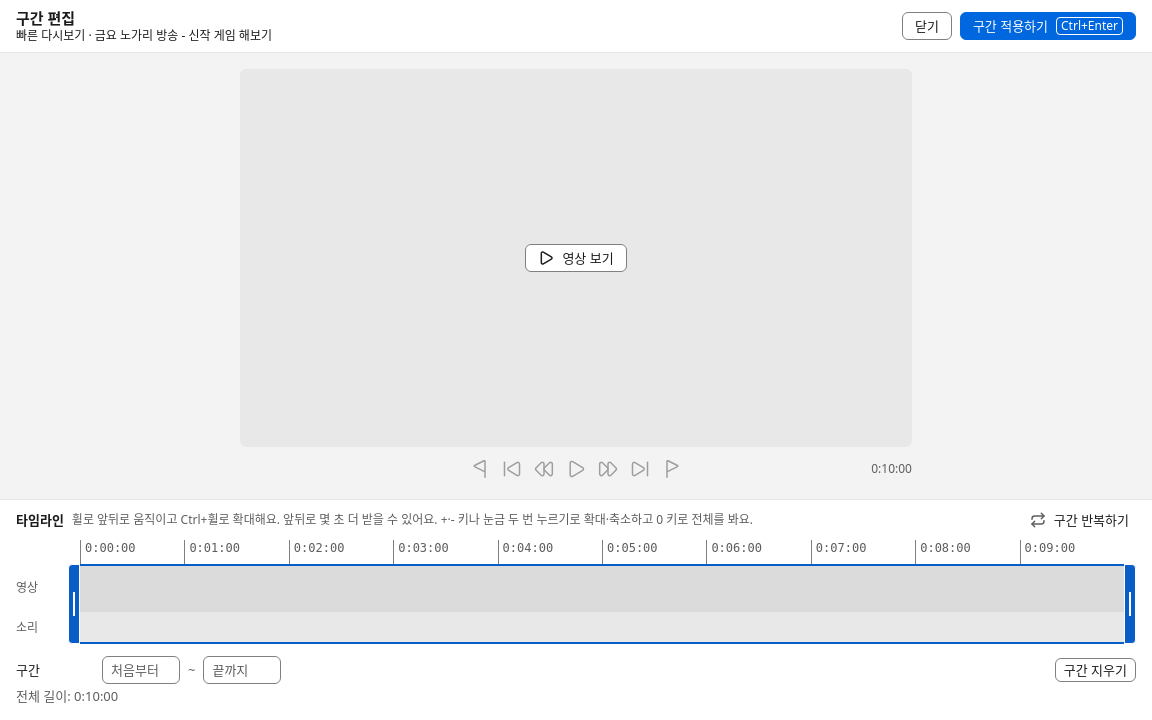
Test: 초안·적용(RE2~RE6) › 적용 오류(길이 넘음): 화면은 열린 채, 그 칸 아래 알림·aria-invalid·aria-describedby·포커스, 초안 보존
Type "4:00:00" into the field named "시작 시각" at (141, 670), box [102,656,180,684]
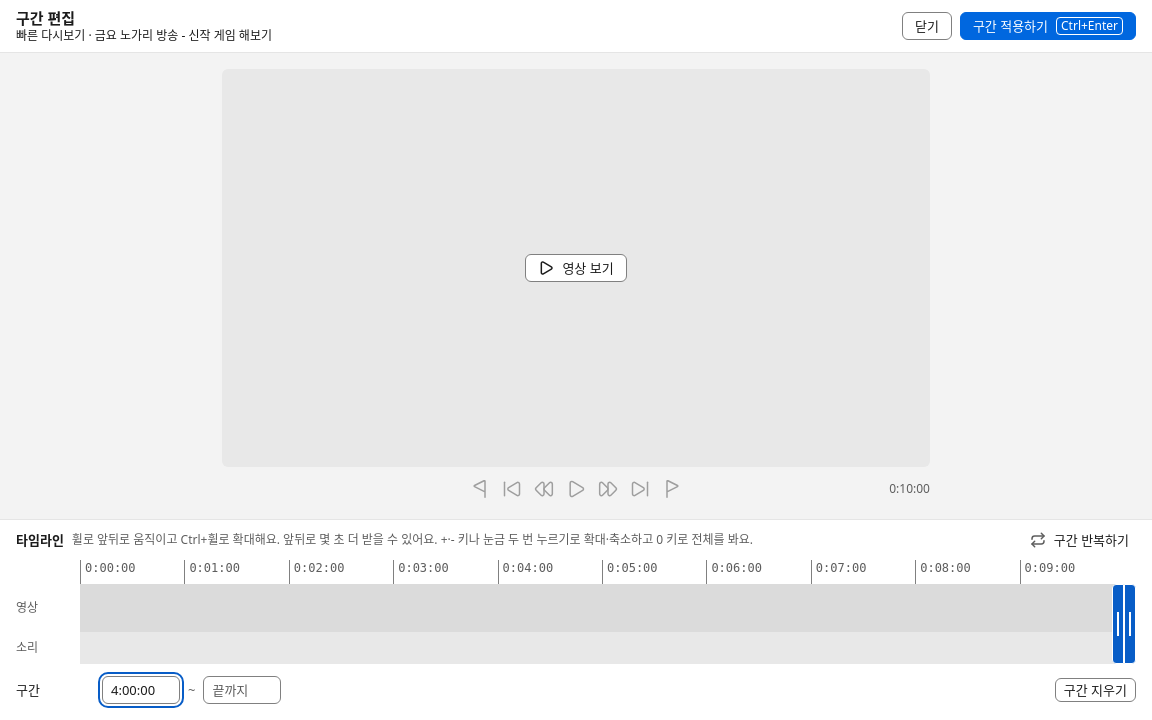
Click the button "구간 적용하기 Ctrl+Enter" at (1048, 26), box [960,12,1136,40]
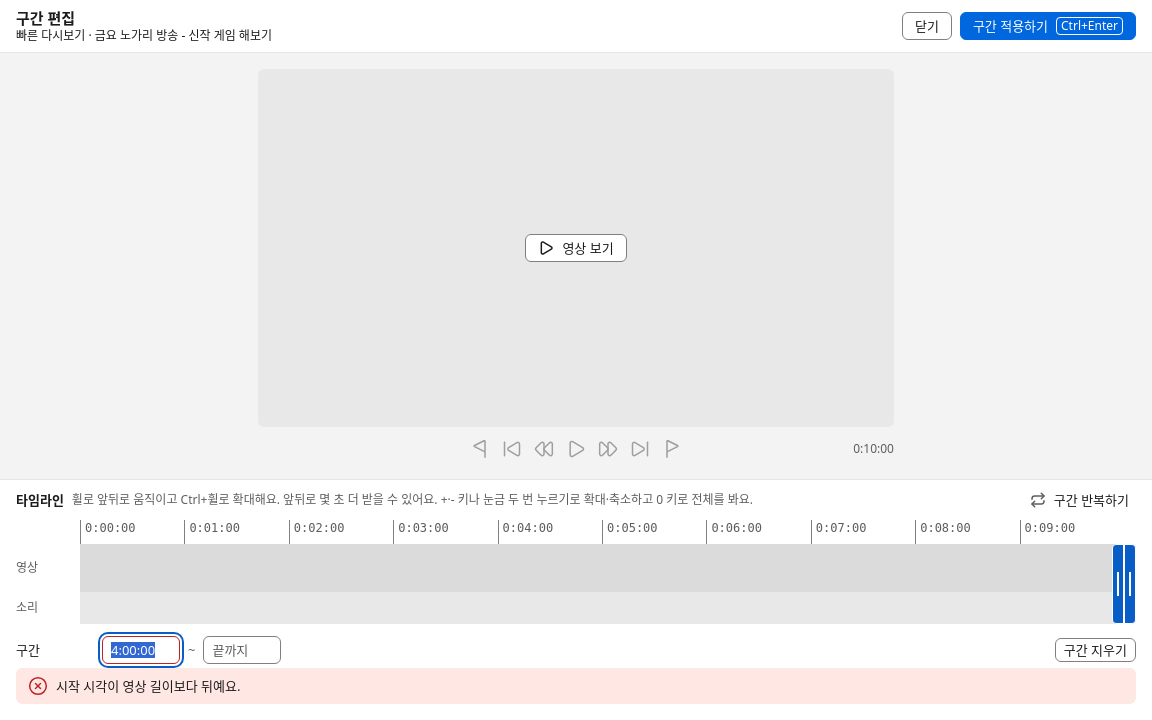
Expected: the field named "끝 시각" is empty, [203,636,281,664]
Result: the message reads "시작 시각이 영상 길이보다 뒤예요." at [56,677,240,695]
